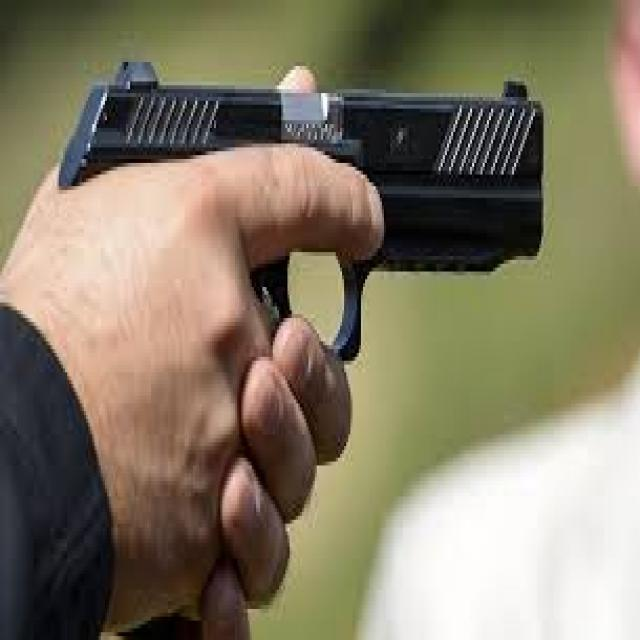semi automatic: (42, 38, 554, 638)
